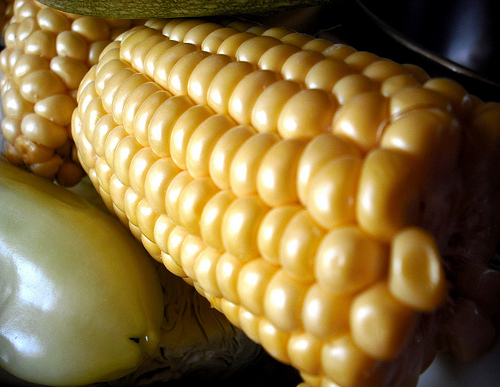corn: (65, 17, 499, 386), (0, 1, 135, 185)
